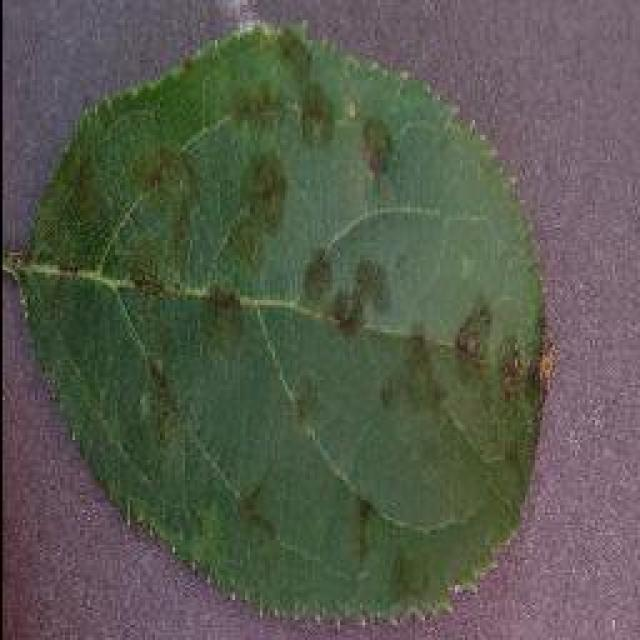apple scab disease: (7, 18, 555, 622)
